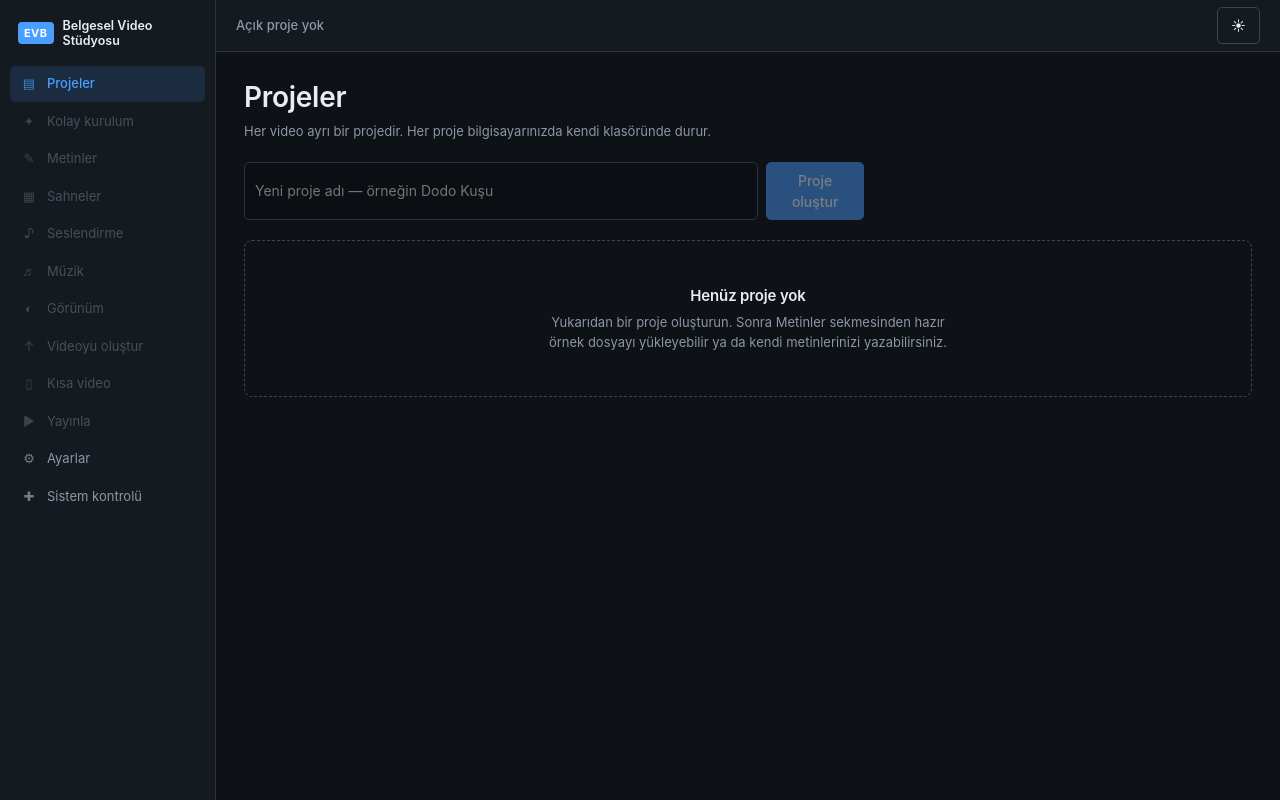
Test: navigation › asks for a project first when none is open
The width and height of the screenshot is (1280, 800).
Click the button "▶ Yayınla": point(108, 421) [10, 404, 205, 439]
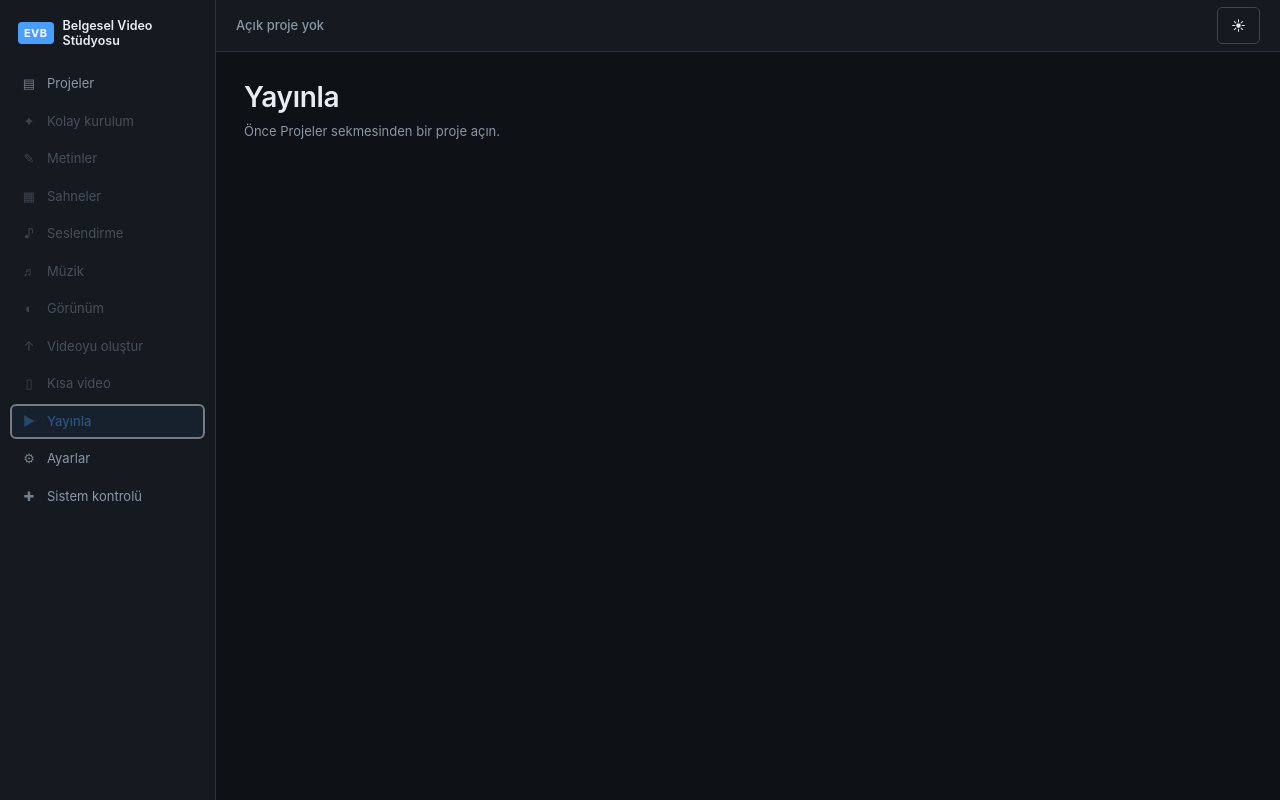
Expected: the text "Önce Projeler sekmesinden bir proje açın." is shown, [244, 123, 500, 139]
